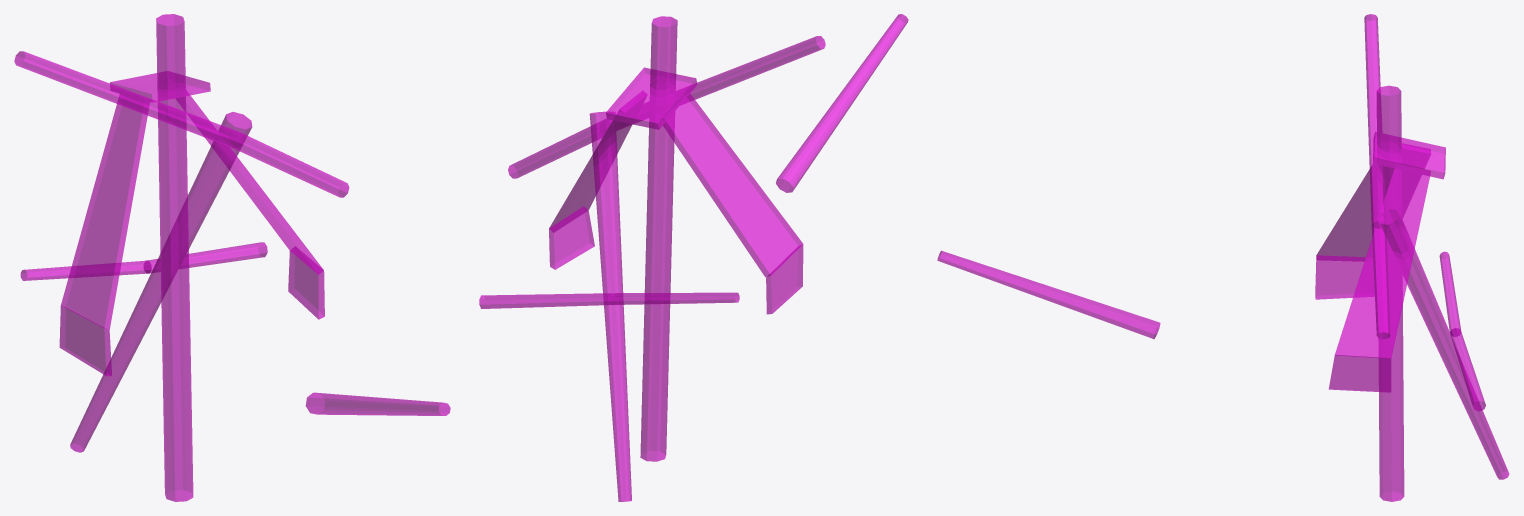
Rendered from SM_Prop_Wreck_Large_Front_01_Mast_Collision.fbx.
3 views of the same model, side by side, from view 1: azimuth 30°, elevation 25°; view 2: azimuth 150°, elevation 25°; view 3: azimuth 270°, elevation 25° (orthographic). The views are drawn at different scales.
Visible parts, largest first — view 1: SM_Prop_Wreck_Large_Front_01_Mast_Collision; view 2: SM_Prop_Wreck_Large_Front_01_Mast_Collision; view 3: SM_Prop_Wreck_Large_Front_01_Mast_Collision.
Boxes of the visible parts, bbox=[...] form: SM_Prop_Wreck_Large_Front_01_Mast_Collision: bbox=[14, 14, 450, 501]; SM_Prop_Wreck_Large_Front_01_Mast_Collision: bbox=[479, 14, 908, 501]; SM_Prop_Wreck_Large_Front_01_Mast_Collision: bbox=[937, 14, 1509, 501].
Size of the model in its own units: 1453 by 2026 by 2537.
